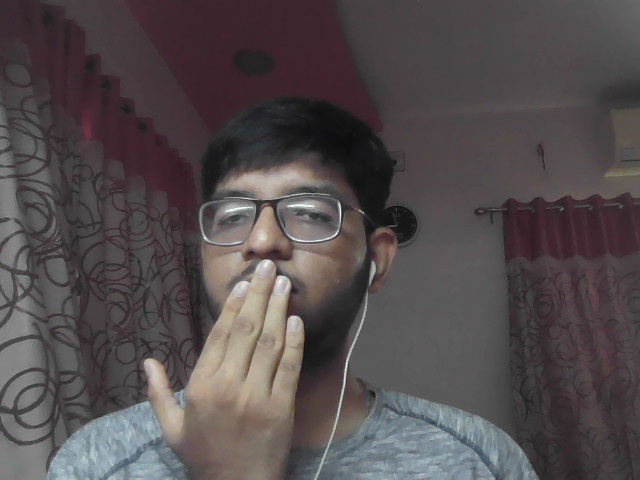આભાર: (134, 254, 323, 480)
